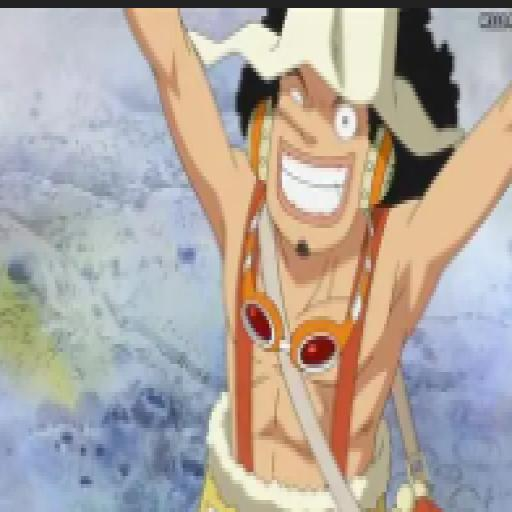Usopp: (99, 4, 512, 512)
